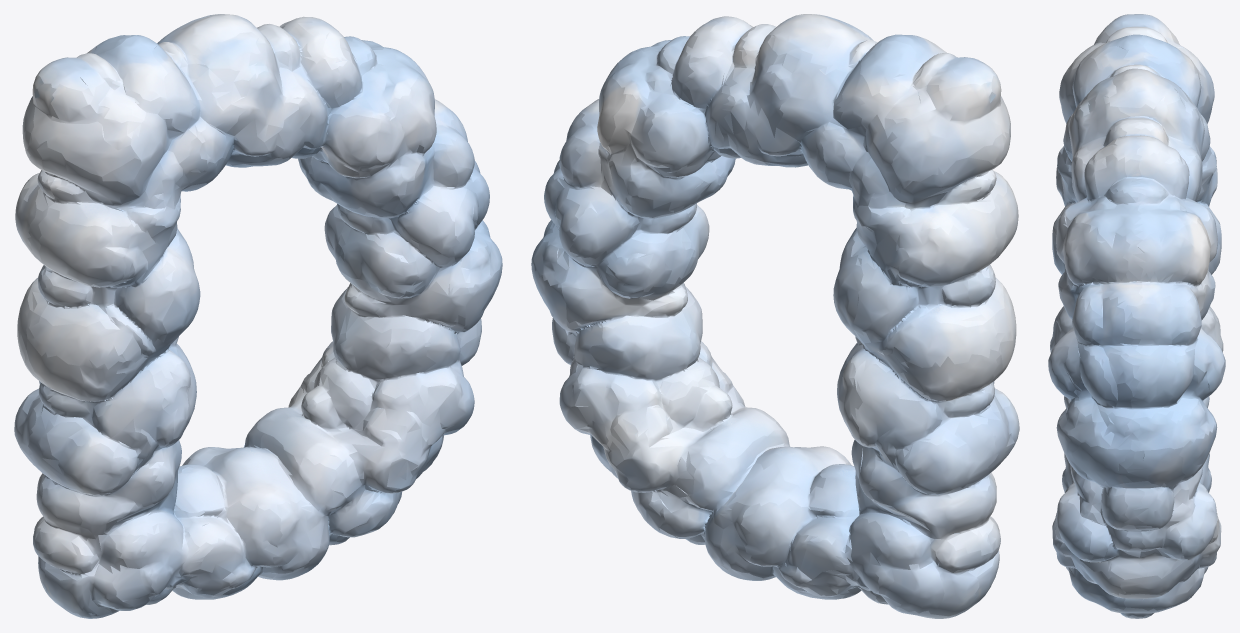
The model's file is cloud-d.glb.
3 views of the same model, side by side, from view 1: azimuth 30°, elevation 25°; view 2: azimuth 150°, elevation 25°; view 3: azimuth 270°, elevation 25° (orthographic). The views are drawn at different scales.
Size of the model in its own units: 1.6 by 1.9 by 0.6003.
1 material, 1 textured.
